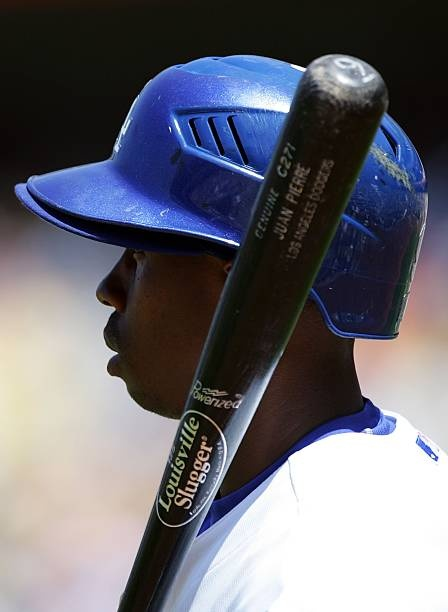bita: (127, 58, 381, 612)
